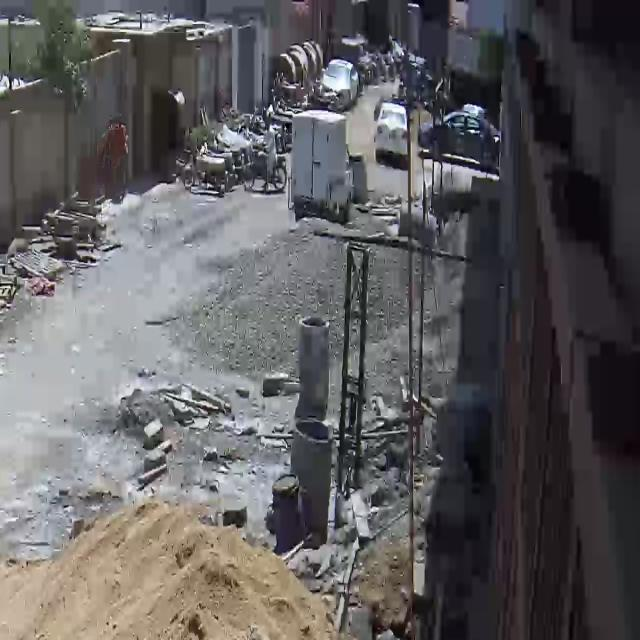bike: (184, 150, 227, 196), (244, 154, 286, 192)
car: (418, 110, 498, 170), (375, 102, 408, 160), (322, 58, 359, 108)
